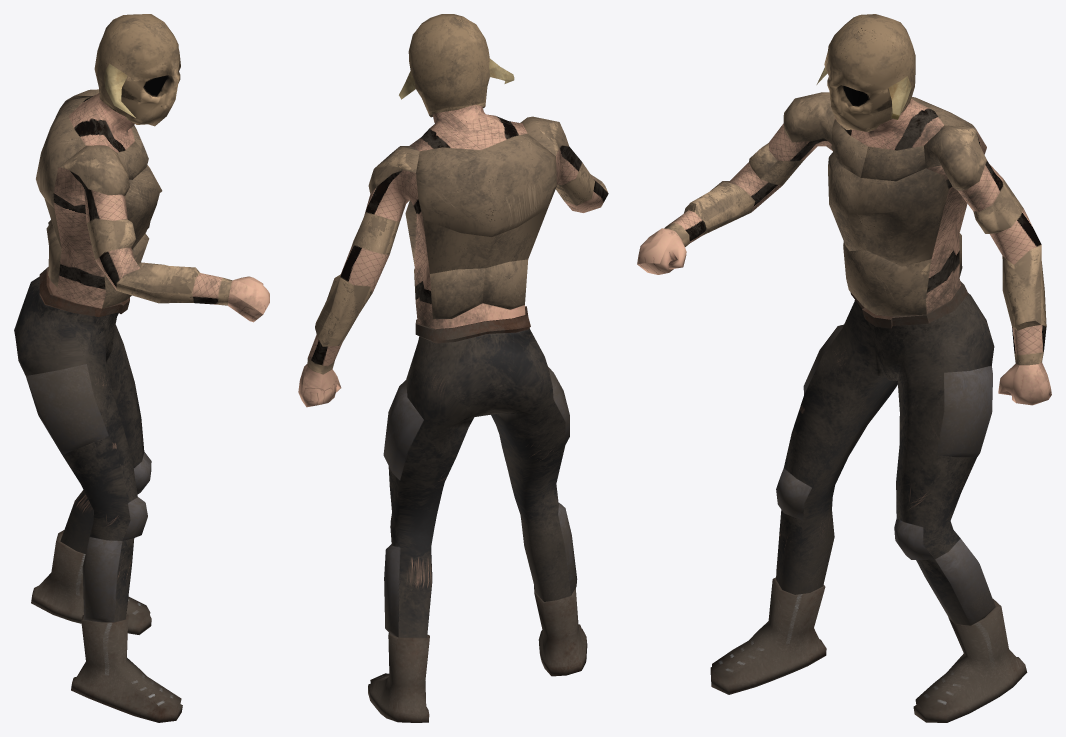
File: Anim_interruptor_npc1.0030.obj
The picture shows the model from 3 angles, left to right: view 1: azimuth 30°, elevation 25°; view 2: azimuth 150°, elevation 25°; view 3: azimuth 270°, elevation 25°; orthographic projection. The views are drawn at different scales.
Visible parts, largest first — view 1: NPC2; view 2: NPC2; view 3: NPC2.
Part boxes in pixels (box(x1,y1,x2,y2)): NPC2: box(14, 14, 269, 722); NPC2: box(298, 14, 608, 722); NPC2: box(637, 14, 1051, 722).
Bounding box in the file's own units: 2.68 × 9.33 × 5.09.
